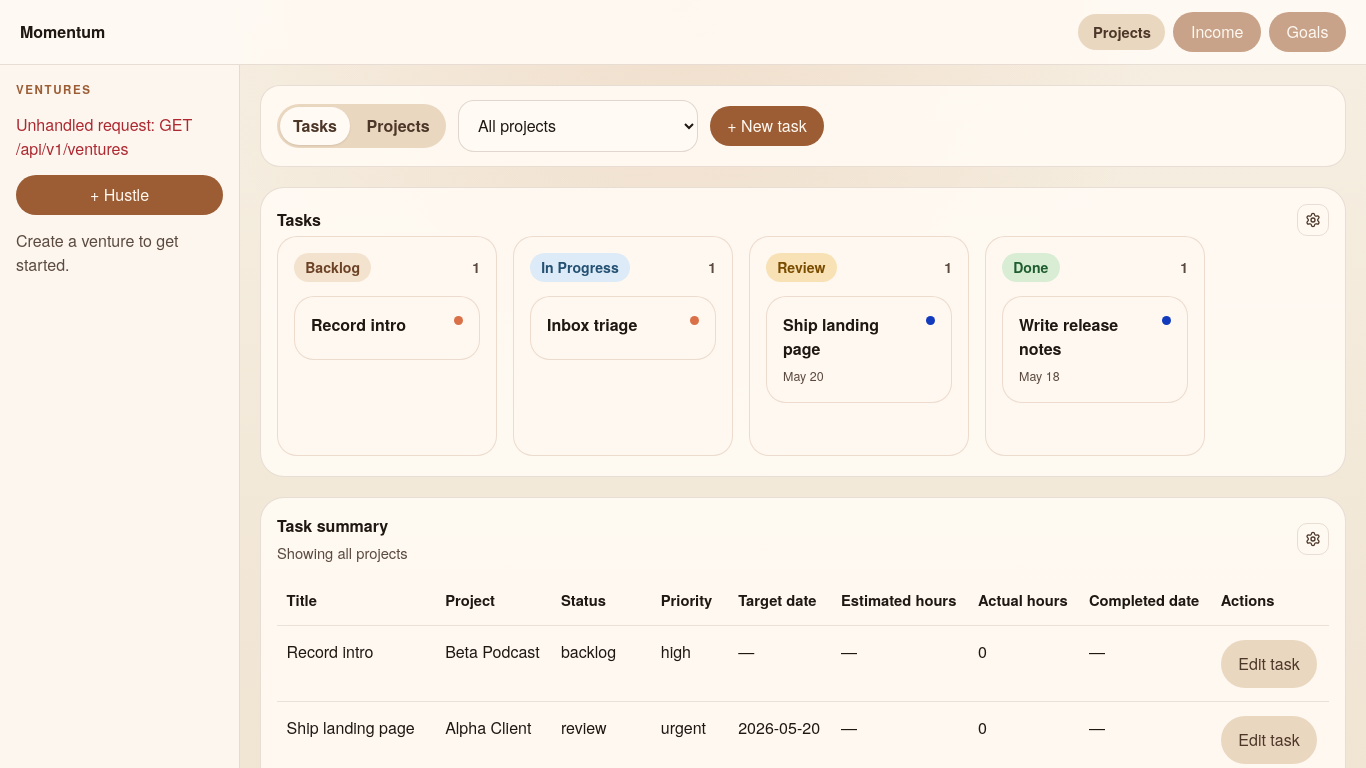
Scenario: Ticket 4 task summary table, task modal, and manual time logs › does not show a status enum error when a done task only has an estimated-hours validation error
Click the button "+ New task".
click(767, 126)  # box [710,106,824,146]
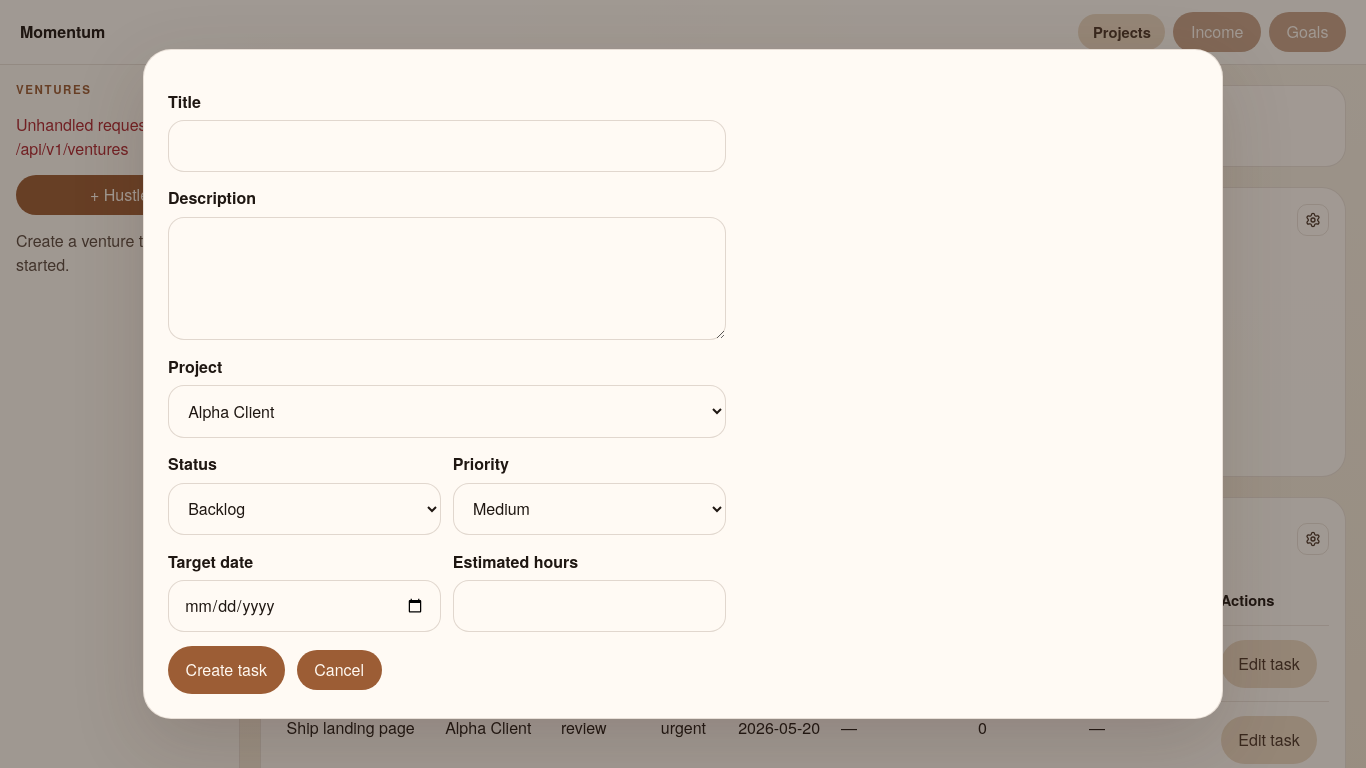
Type "Fix completed task validation" into the field labelled "Title".
click(447, 146); type("Fix completed task validation")  # box [168,120,726,172]
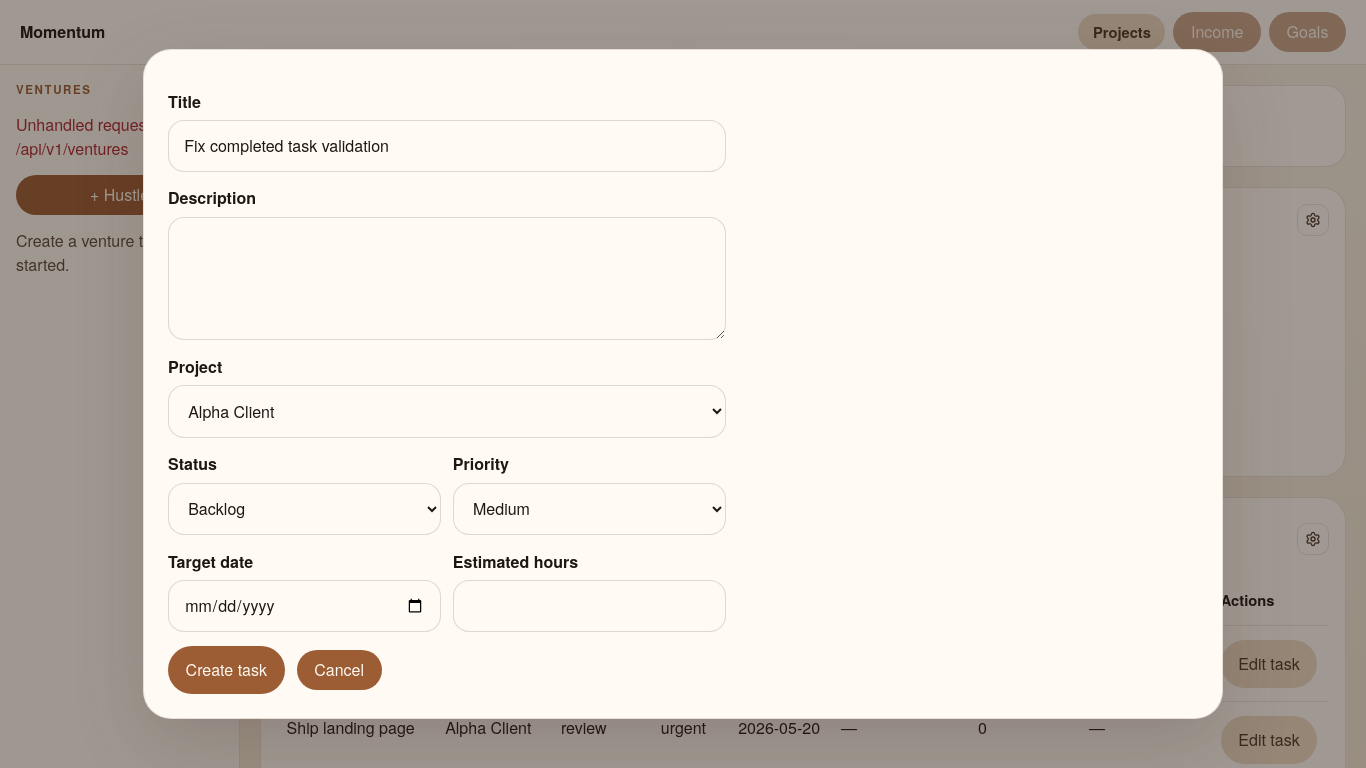
Select "Alpha Client" in the dropdown labelled "Project" at (447, 412), box [168,385,726,438]
Select "Done" in the dropdown labelled "Status" at (304, 509), box [168,483,441,535]
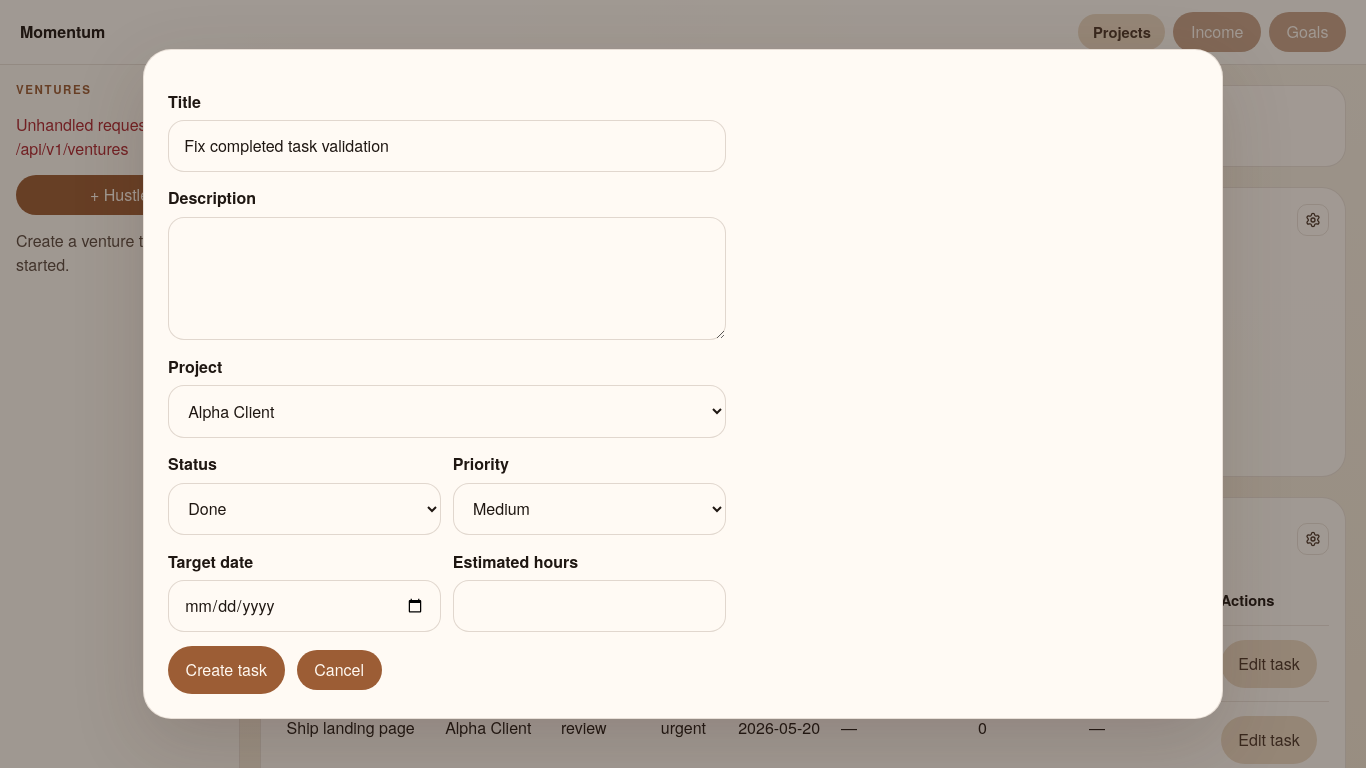
Type "-1" into the number field labelled "Estimated hours".
click(589, 606); type("-1")  # box [453,580,726,632]
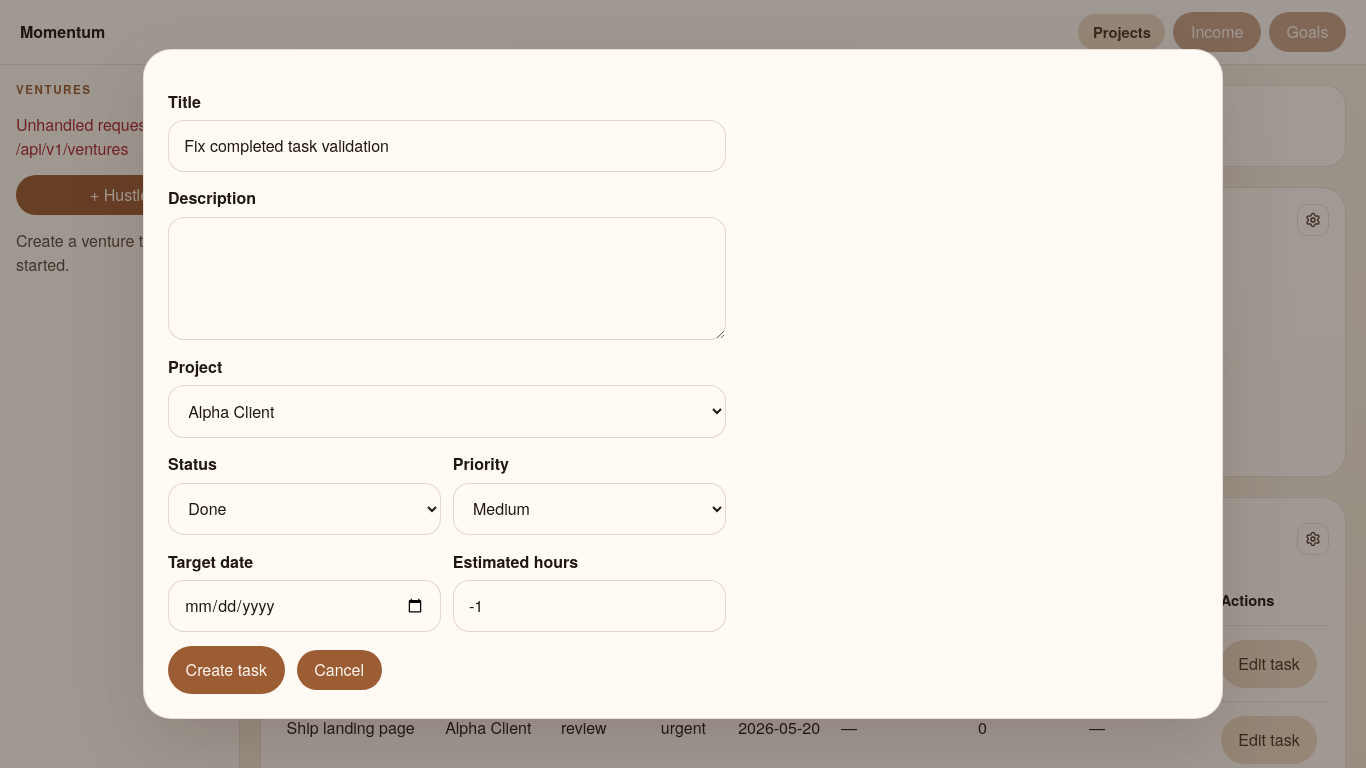
Click the button "Create task".
click(226, 670)  # box [168,646,285,694]
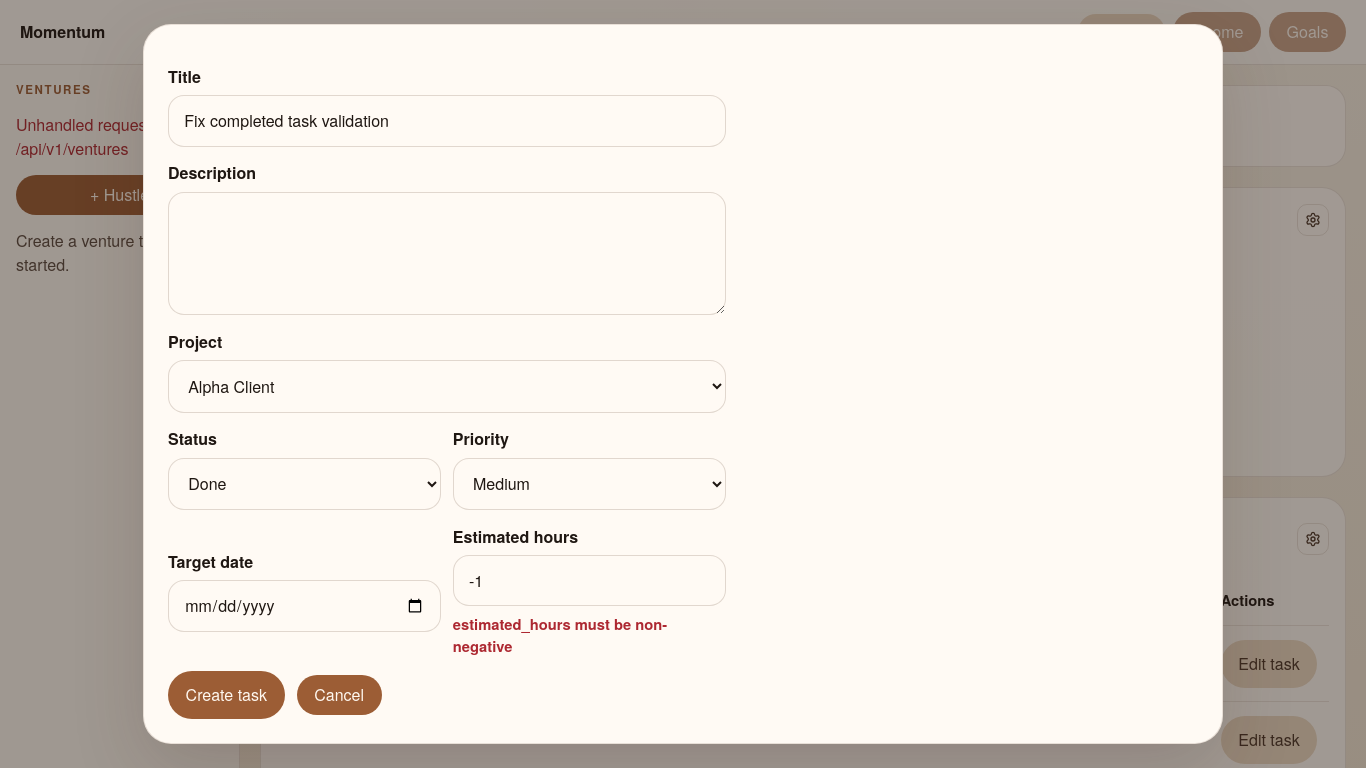
Expected: the text "estimated_hours must be non-negative" is shown, [453,613,667,657]
